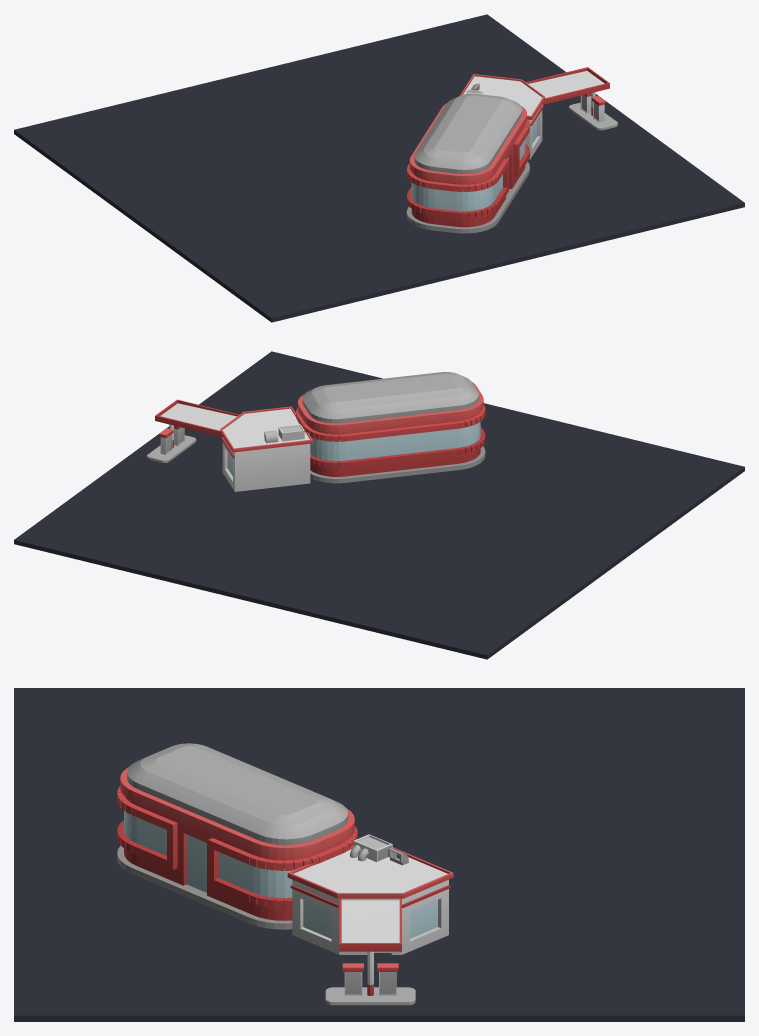
File: GasStation.fbx
3 renders of one model, top to bottom at view 1: azimuth 30°, elevation 25°; view 2: azimuth 150°, elevation 25°; view 3: azimuth 270°, elevation 25°, orthographic. The views are drawn at different scales.
Visible parts, largest first — view 1: Foundation, Plane.002; view 2: Foundation, Plane.002; view 3: Foundation, Plane.002.
Part boxes in pixels (x1=…): Foundation: x1=14, y1=14, x2=744, y2=322; Plane.002: x1=406, y1=67, x2=617, y2=233; Foundation: x1=14, y1=351, x2=744, y2=659; Plane.002: x1=147, y1=372, x2=485, y2=491; Foundation: x1=14, y1=688, x2=744, y2=1021; Plane.002: x1=117, y1=743, x2=453, y2=1005.
Bounding box in the file's own units: 3500 × 520 × 3300.
